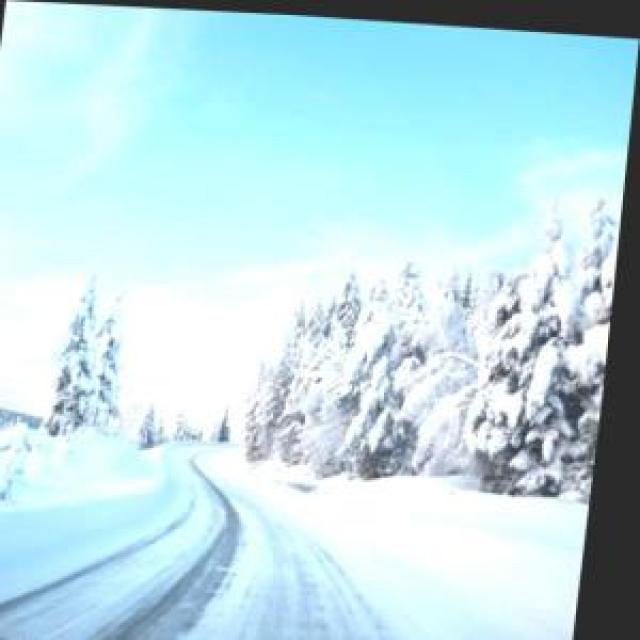ice-road: (0, 439, 477, 640)
